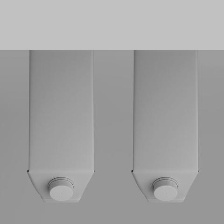carton: (123, 44, 212, 205), (22, 46, 101, 208)
